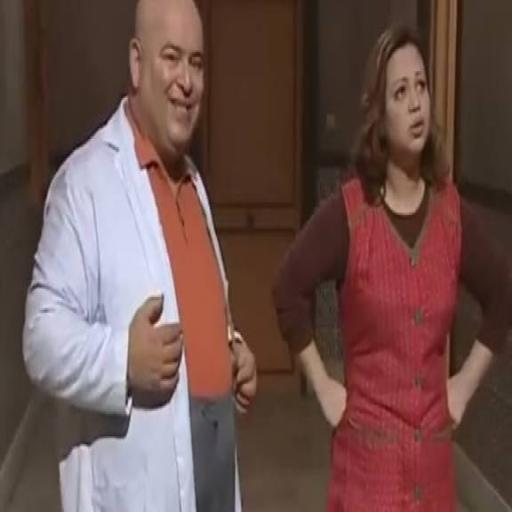AZZA: (385, 44, 430, 164)
sboui: (130, 0, 204, 150)
